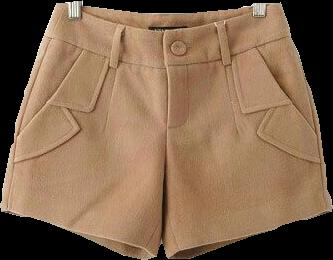Hemline: (167, 209, 332, 259), (0, 208, 154, 257)
Pantleg: (163, 2, 332, 258), (0, 1, 166, 259)
Waistline: (43, 32, 287, 68), (58, 1, 277, 31)
